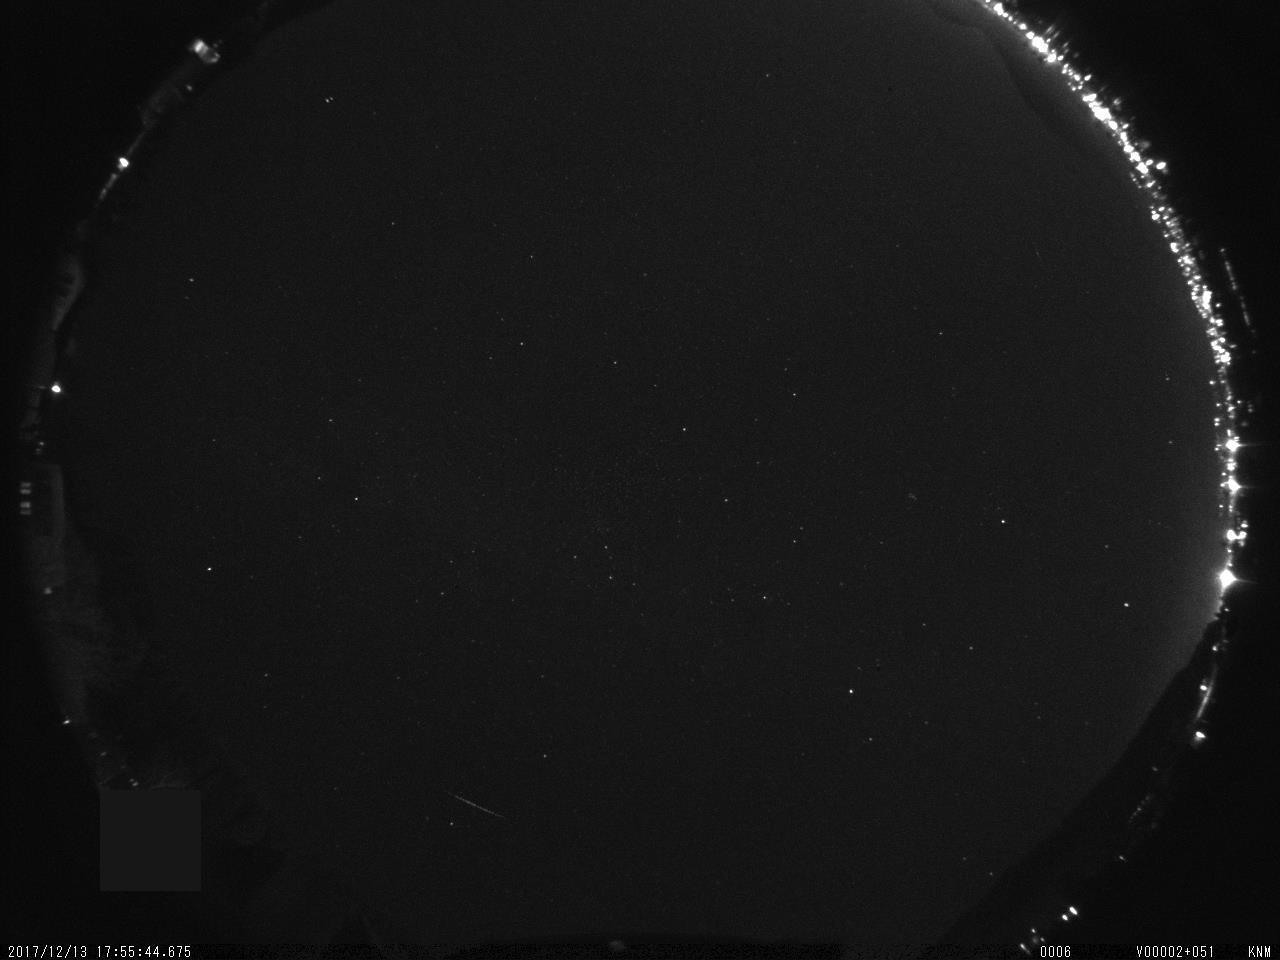Meteor: (440, 787, 515, 828)
